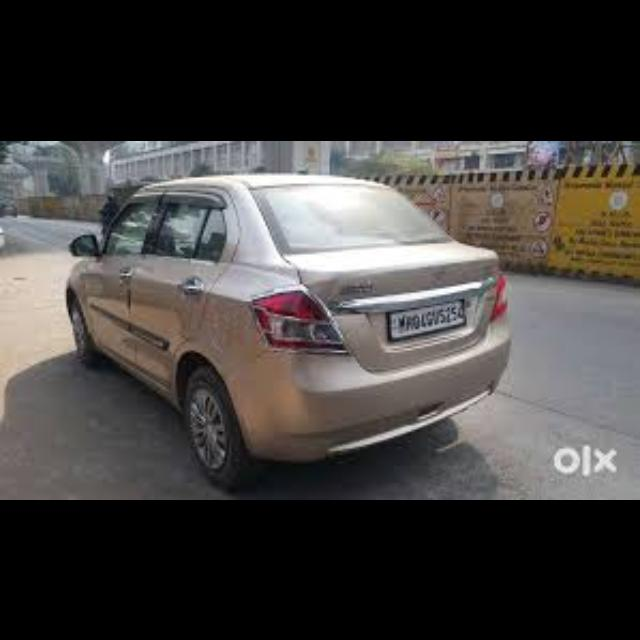vehicles: (47, 163, 511, 493)
